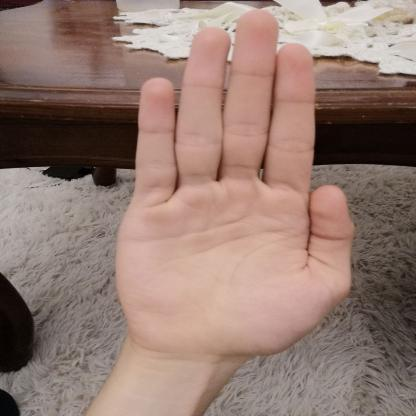SEEN: (100, 4, 370, 371)
